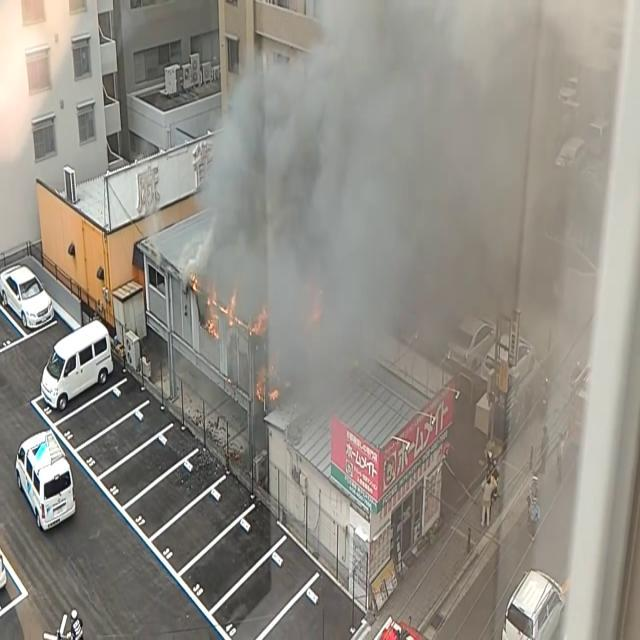Smoke: (188, 0, 624, 405)
